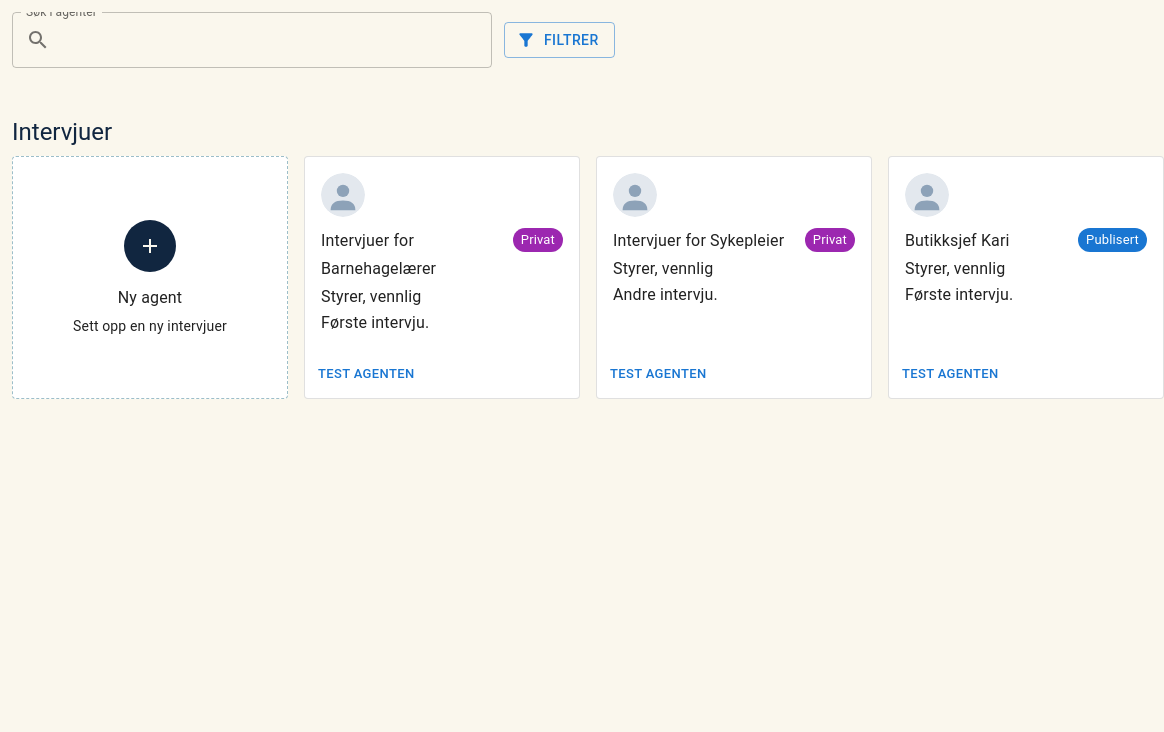
Test: AgentList › filters › says when no agent matches the filters
Click the button "Filtrer".
click(559, 40)  # box [504,22,614,58]
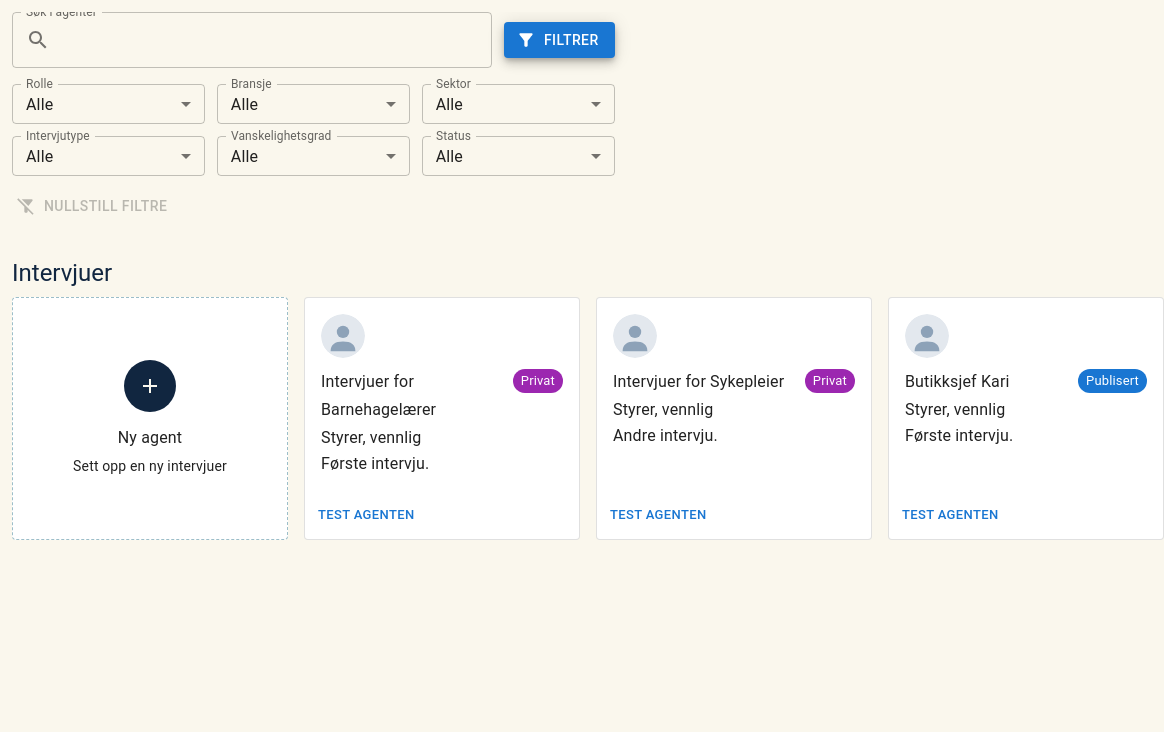
Click the dropdown named "Sektor".
click(449, 104)  # box [436,94,463,114]
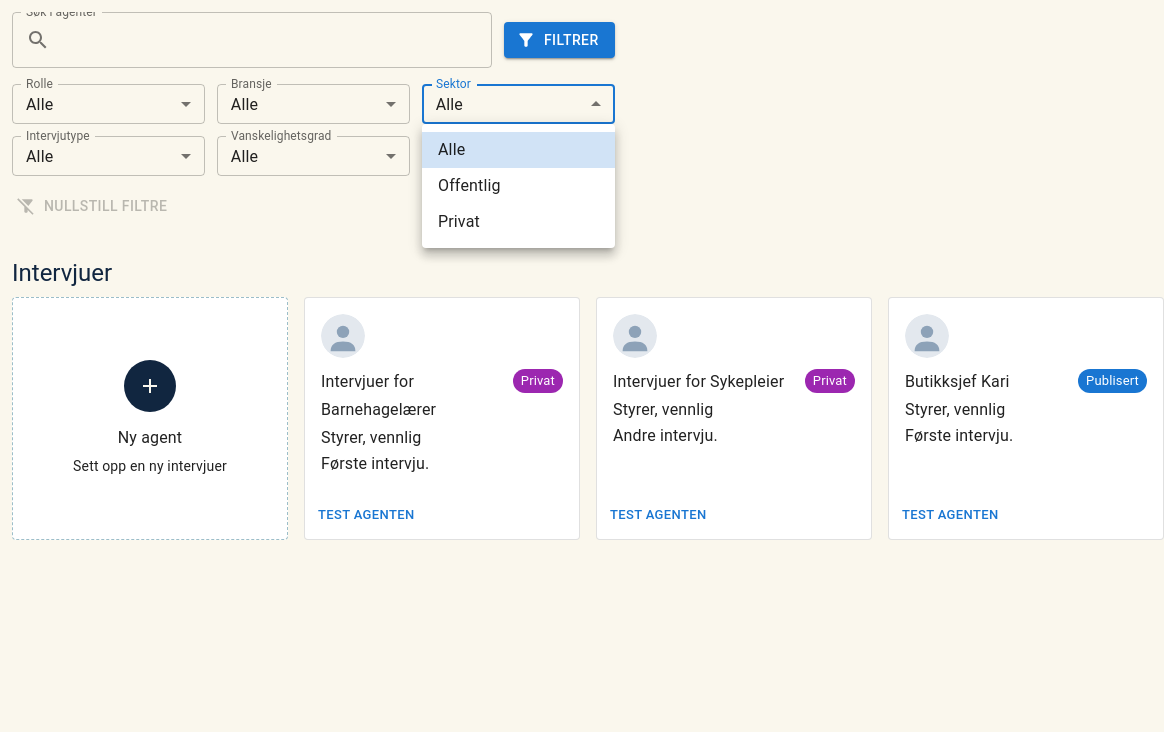
Click the option "Privat".
click(459, 222)  # box [438,212,480,231]
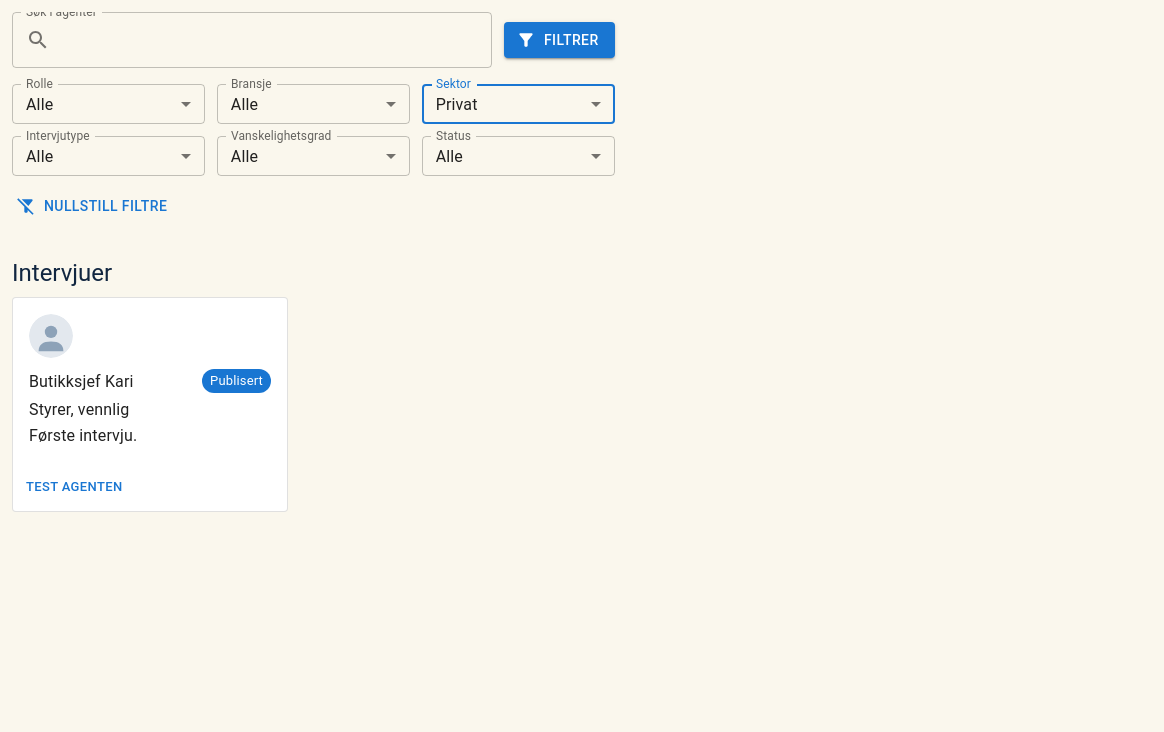
Click the dropdown named "Vanskelighetsgrad".
click(244, 156)  # box [231,146,258,166]
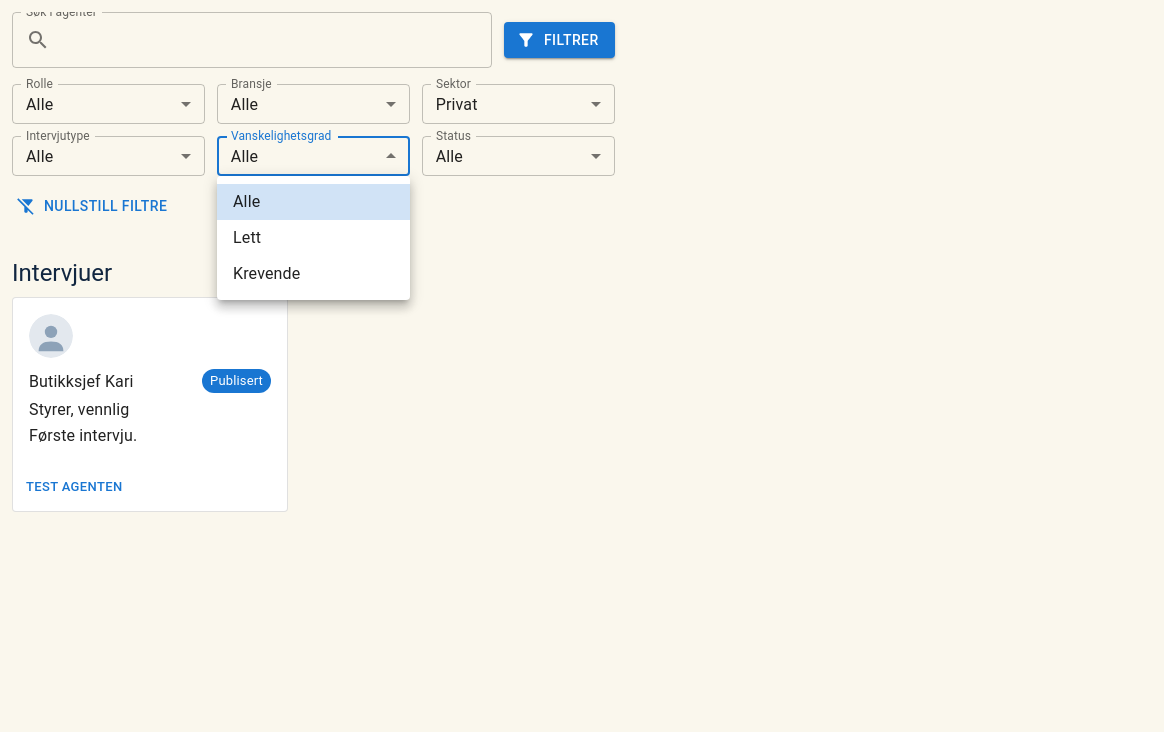
Click the option "Lett".
click(247, 238)  # box [233,228,261,247]
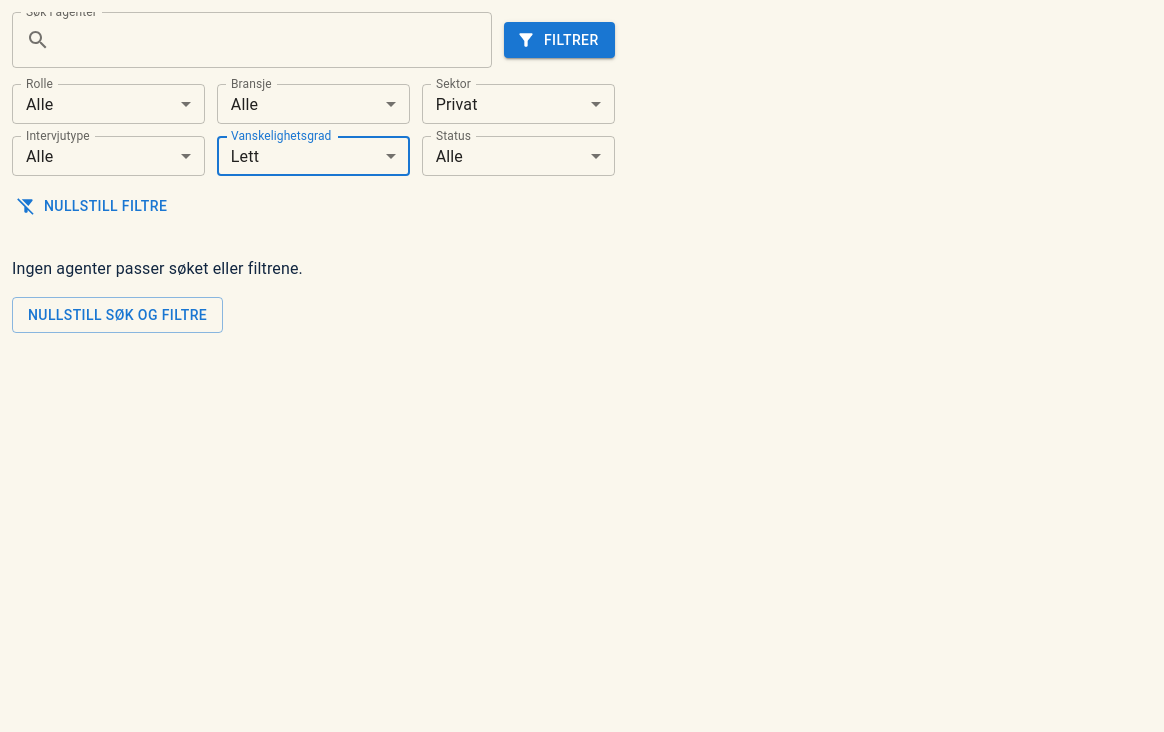
Now the text "Ingen agenter passer søket eller filtrene." is shown, box [12,256,303,280]
Click the button "Nullstill søk og filtre".
click(118, 315)  # box [12,296,223,333]
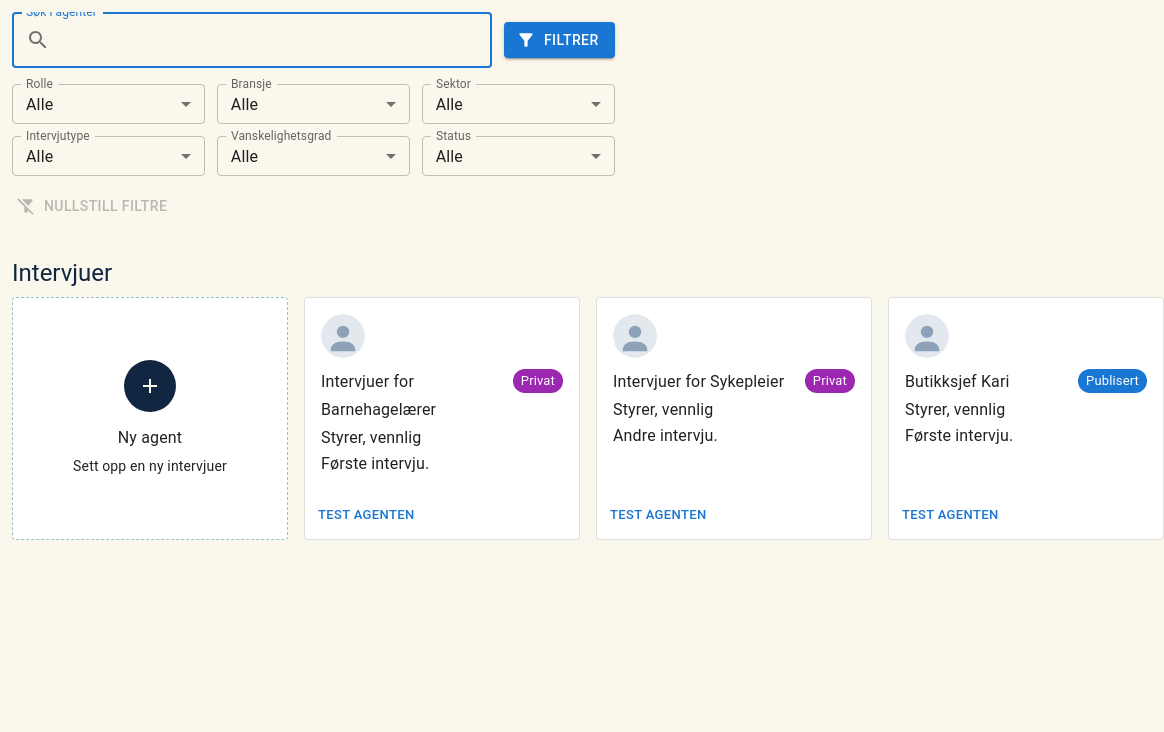
Now the button "Nullstill filtre" is disabled, box [12,188,175,224]
